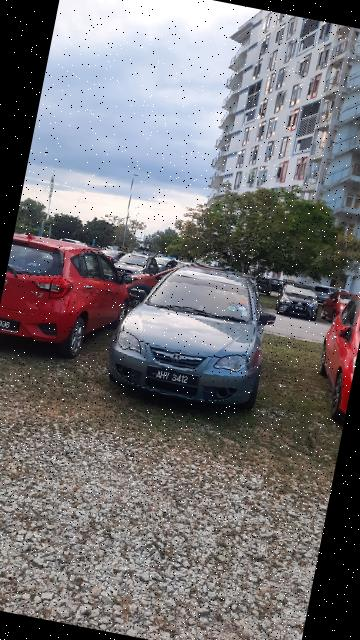License_Plate: (146, 364, 203, 391)
car: (105, 255, 286, 420)
